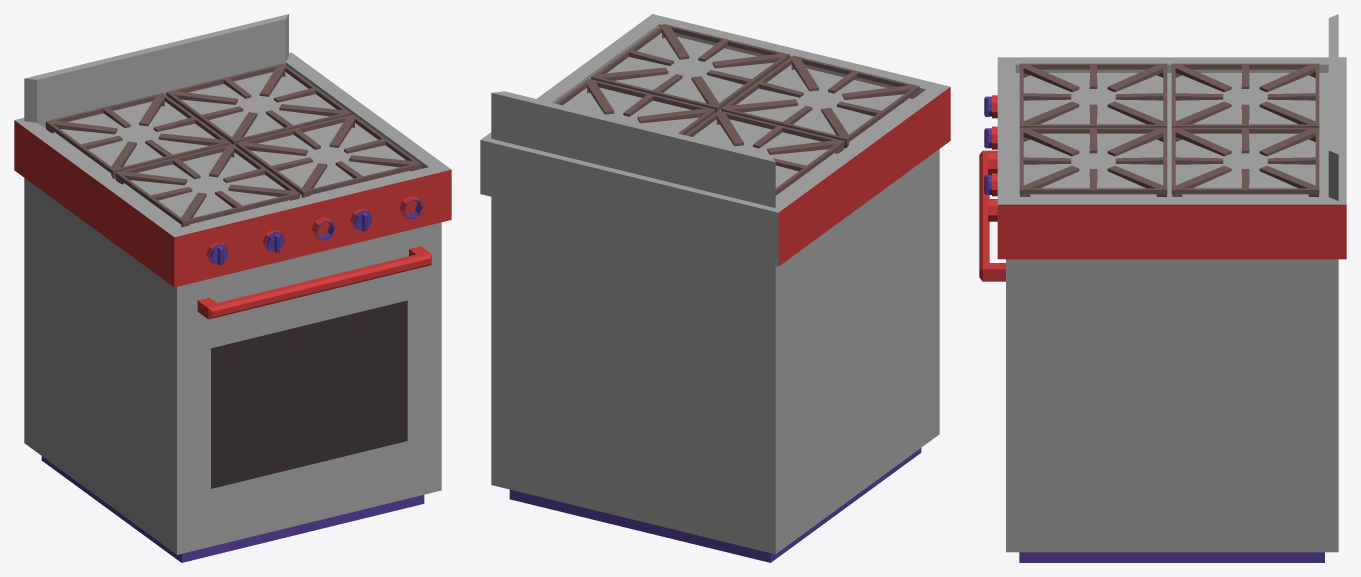
The model's file is GAZ2.fbx.
3 renders of one model, left to right at view 1: azimuth 30°, elevation 25°; view 2: azimuth 150°, elevation 25°; view 3: azimuth 270°, elevation 25°, orthographic. The views are drawn at different scales.
Visible parts, largest first — view 1: pCube7; view 2: pCube7; view 3: pCube7.
Part boxes in pixels (box(x1,y1,x2,y2)): pCube7: box(14, 14, 451, 562); pCube7: box(480, 14, 950, 562); pCube7: box(979, 14, 1346, 562).
Size of the model in its own units: 6.99 by 9.16 by 7.37.
